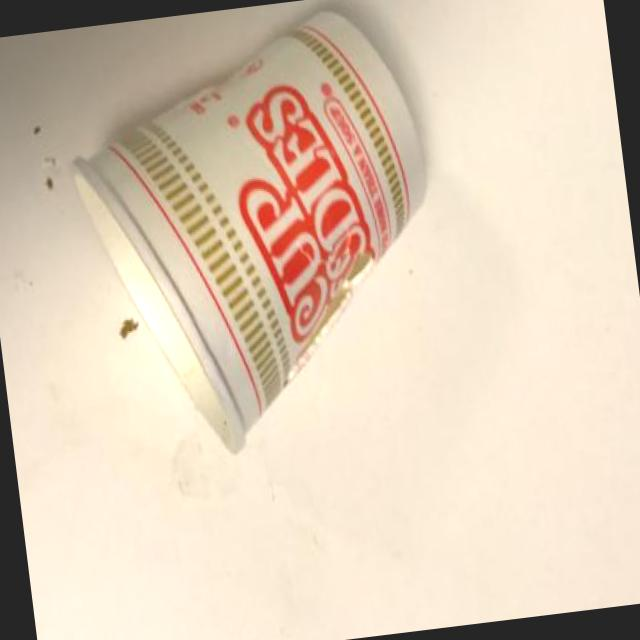ly_hop_giay: (71, 11, 425, 453)
